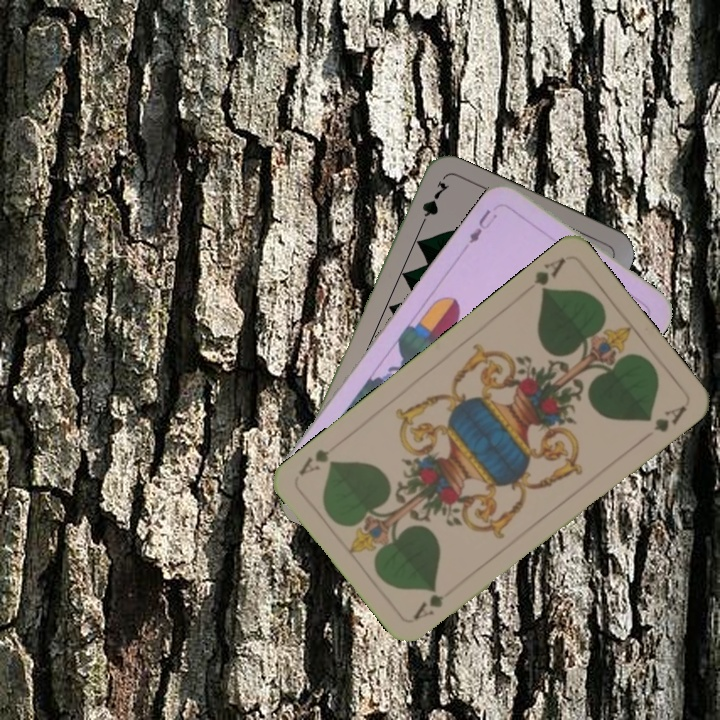EU: (464, 205, 500, 246)
G7: (414, 176, 452, 233)
GA: (409, 583, 460, 622), (529, 253, 569, 298)
